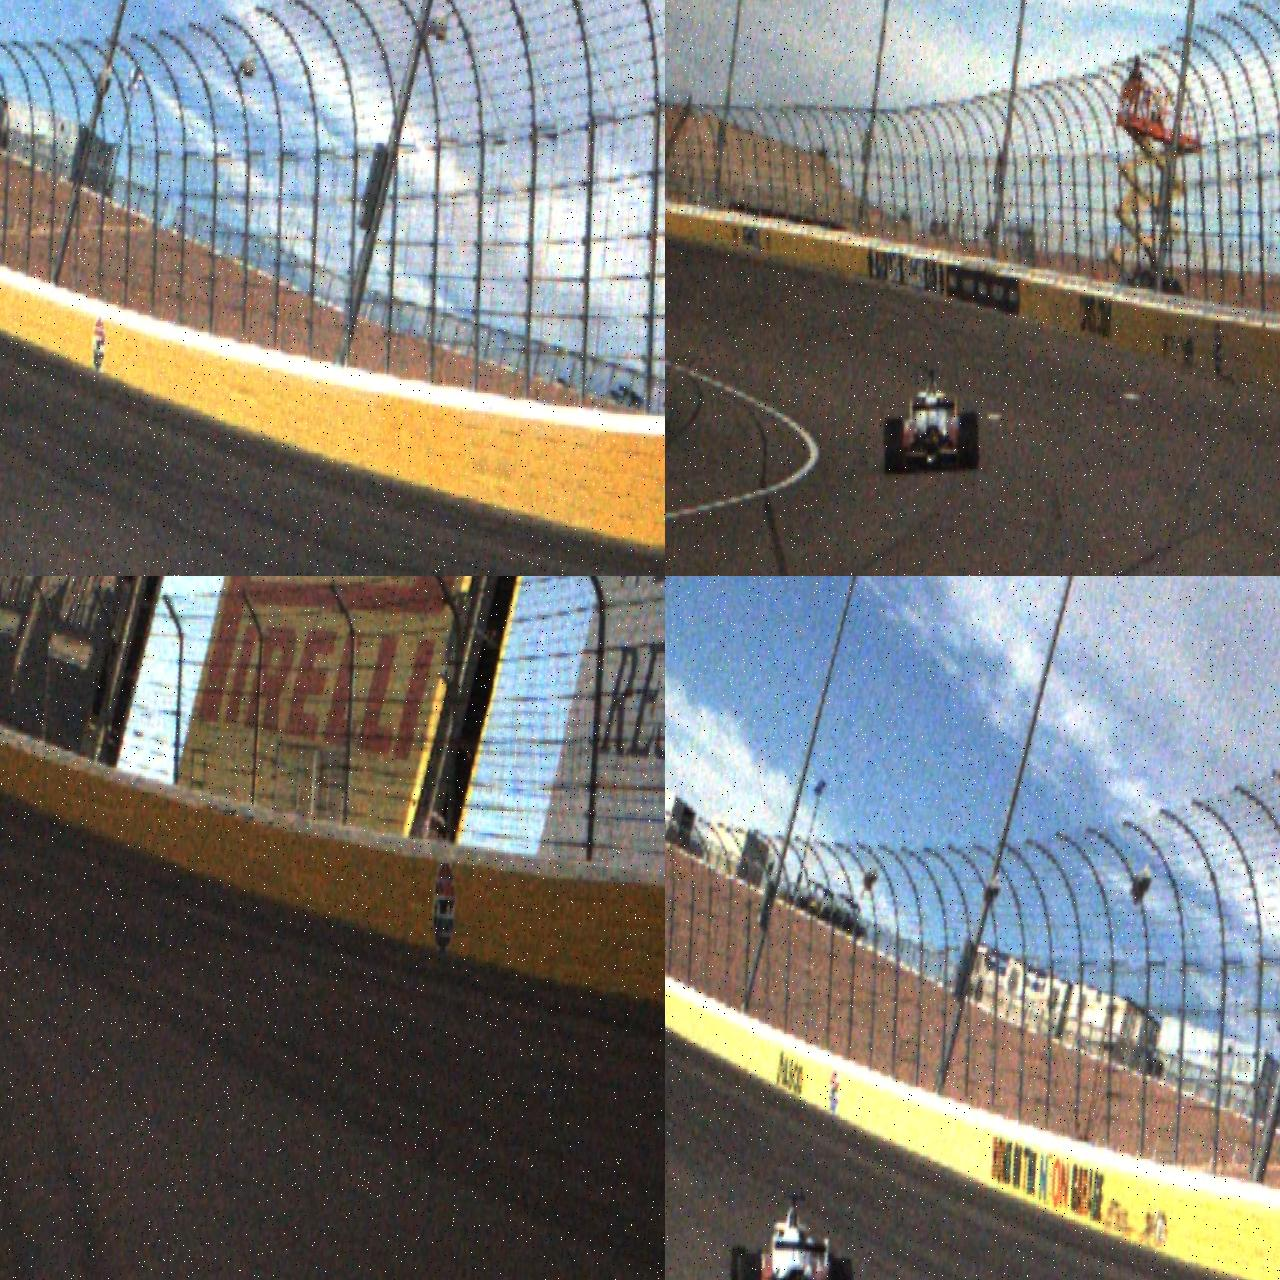AV: (727, 1190, 857, 1280), (883, 365, 982, 479)
Wheel: (956, 411, 980, 471), (883, 418, 905, 474), (736, 1251, 762, 1280), (727, 1244, 745, 1280), (828, 1257, 853, 1280)
